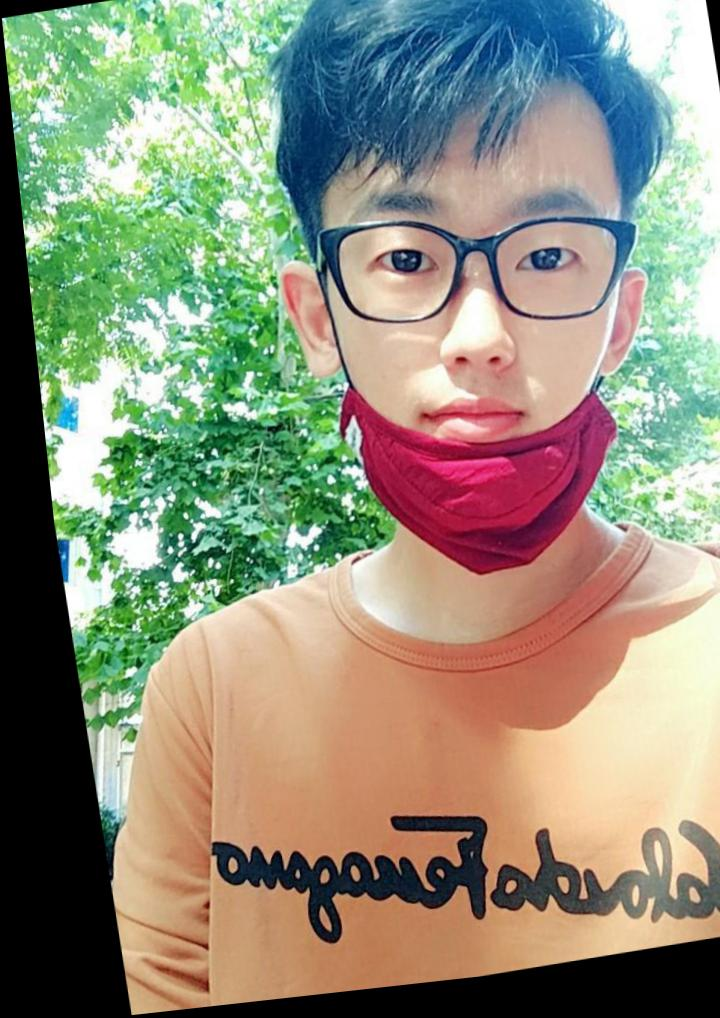WRONG: (299, 148, 644, 539)
